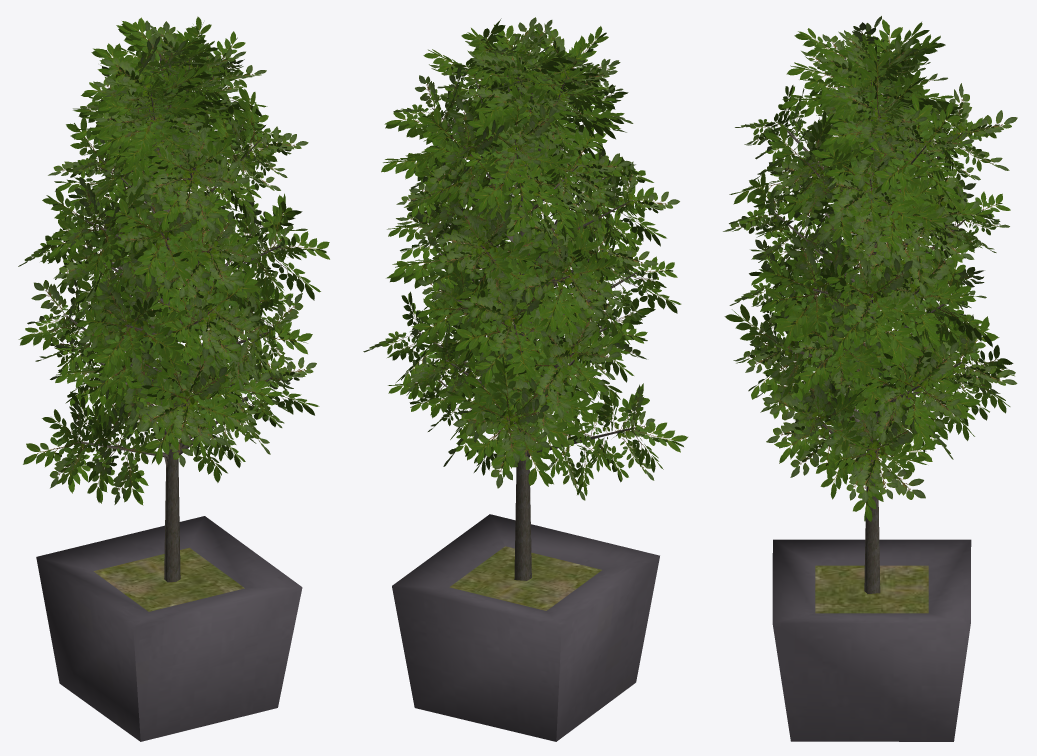
The model's file is cargo_potted_tree.glb.
The picture shows the model from 3 angles, left to right: view 1: azimuth 30°, elevation 25°; view 2: azimuth 150°, elevation 25°; view 3: azimuth 270°, elevation 25°; orthographic projection.
Visible parts, largest first — view 1: KB3D_NSF_PropPottedTree_A_SmallTree, KB3D_NSF_PropPottedTree_A_Pot; view 2: KB3D_NSF_PropPottedTree_A_SmallTree, KB3D_NSF_PropPottedTree_A_Pot; view 3: KB3D_NSF_PropPottedTree_A_SmallTree, KB3D_NSF_PropPottedTree_A_Pot.
Part boxes in pixels (x1,y1,x2,y2): KB3D_NSF_PropPottedTree_A_SmallTree: (18,16,329,582); KB3D_NSF_PropPottedTree_A_Pot: (36,516,302,741); KB3D_NSF_PropPottedTree_A_SmallTree: (363,17,687,580); KB3D_NSF_PropPottedTree_A_Pot: (392,514,659,741); KB3D_NSF_PropPottedTree_A_SmallTree: (723,16,1017,593); KB3D_NSF_PropPottedTree_A_Pot: (772,539,971,741).
Bounding box in the file's own units: 1.25 × 2.8 × 1.13.
Materials: 4 (4 with a texture image).
